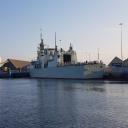Fragata: (27, 28, 106, 81)
